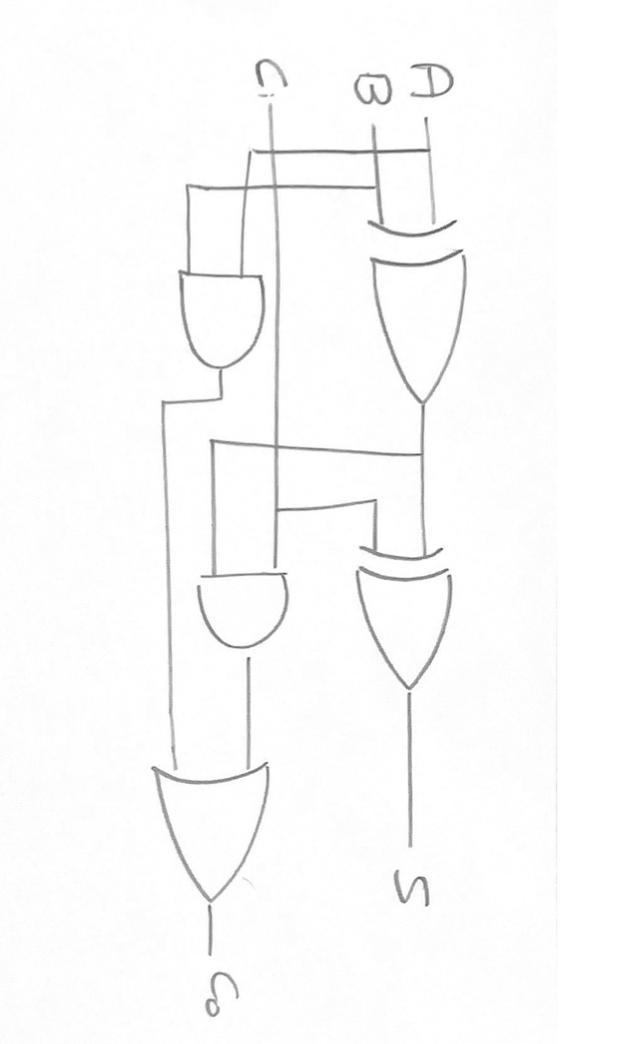AND: (182, 560, 313, 665), (166, 252, 270, 383)
OR: (140, 748, 301, 932)
XOR: (358, 204, 494, 410), (342, 530, 484, 702)
